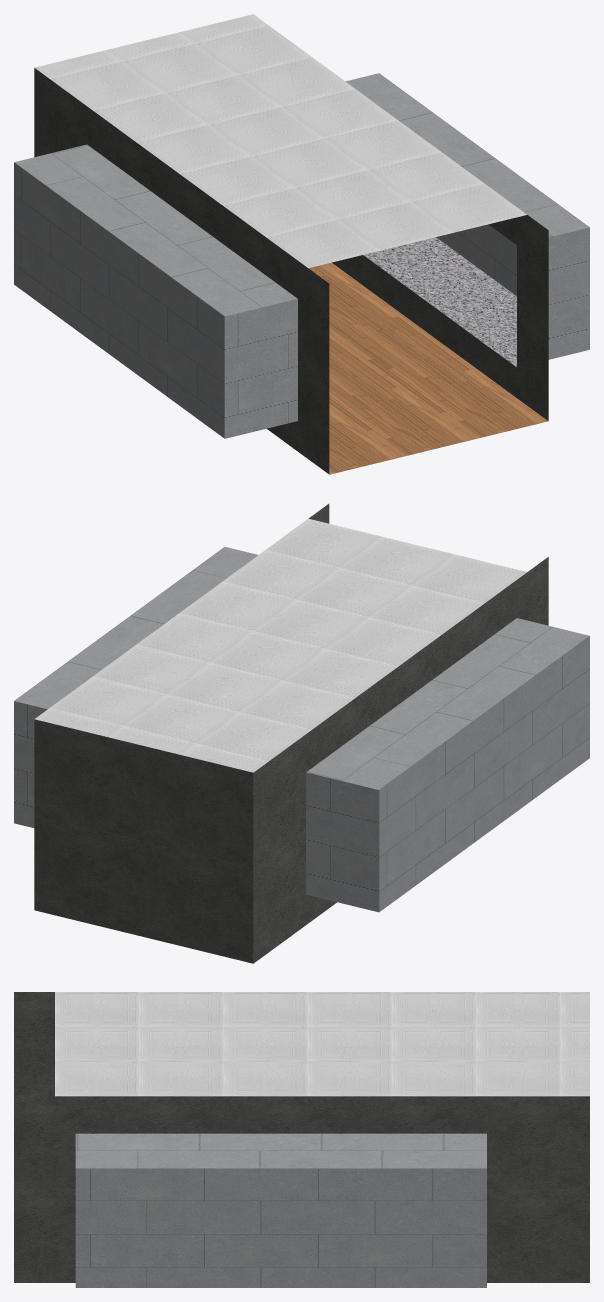
The model's file is aileAutre.gltf.
The picture shows the model from 3 angles, top to bottom: view 1: azimuth 30°, elevation 25°; view 2: azimuth 150°, elevation 25°; view 3: azimuth 270°, elevation 25°; orthographic projection. The views are drawn at different scales.
Parts seen in each view (by area): view 1: Renfocements, Toit, Murs, Sol; view 2: Murs, Renfocements, Toit; view 3: Renfocements, Toit, Murs.
Part boxes in pixels (x1,y1,x2,y2): Renfocements: [14, 73, 589, 438]; Toit: [35, 14, 526, 268]; Murs: [34, 68, 548, 474]; Sol: [309, 262, 547, 474]; Murs: [34, 503, 548, 963]; Renfocements: [14, 547, 589, 912]; Toit: [34, 518, 526, 772]; Renfocements: [75, 1133, 486, 1287]; Toit: [55, 992, 589, 1096]; Murs: [14, 992, 589, 1282].
Bounding box in the file's own units: 10 × 5 × 14.
5 materials, 5 textured.
